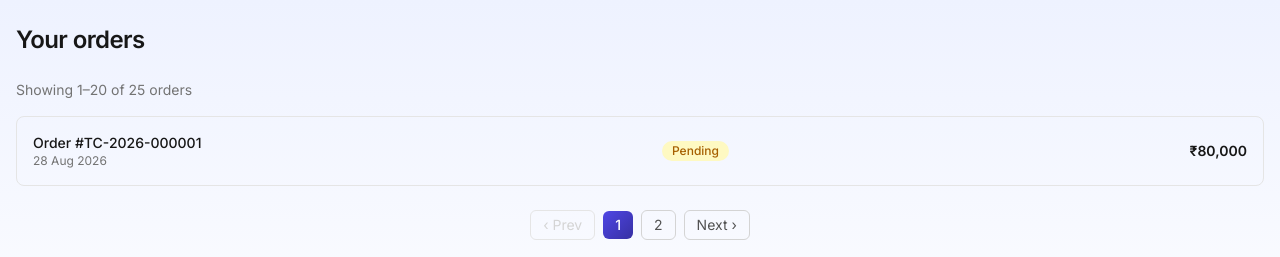
Test case: Order history › renders the order list and paginates
Check: the text "Order #TC-2026-000001" is shown, box x1=33 y1=133 x2=202 y2=153
Check: the text "Showing 1–20 of 25 orders" is shown, box x1=16 y1=81 x2=192 y2=98
Click the button "2". click: (658, 225)
box: x1=641 y1=210 x2=676 y2=240
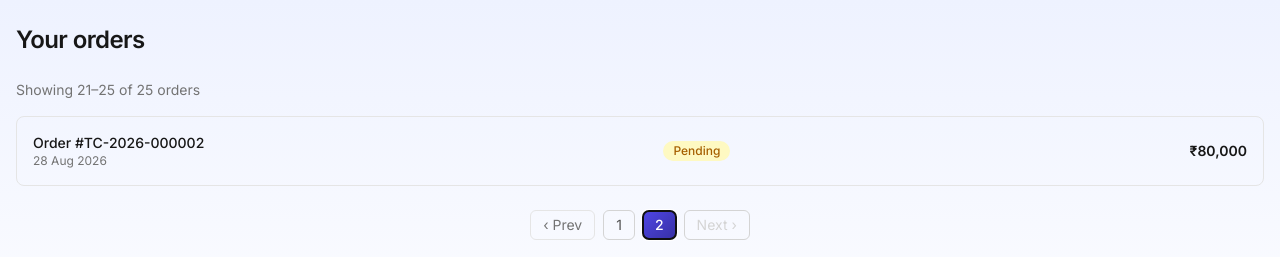
Check: the text "Order #TC-2026-000002" is shown, box x1=33 y1=133 x2=204 y2=153
